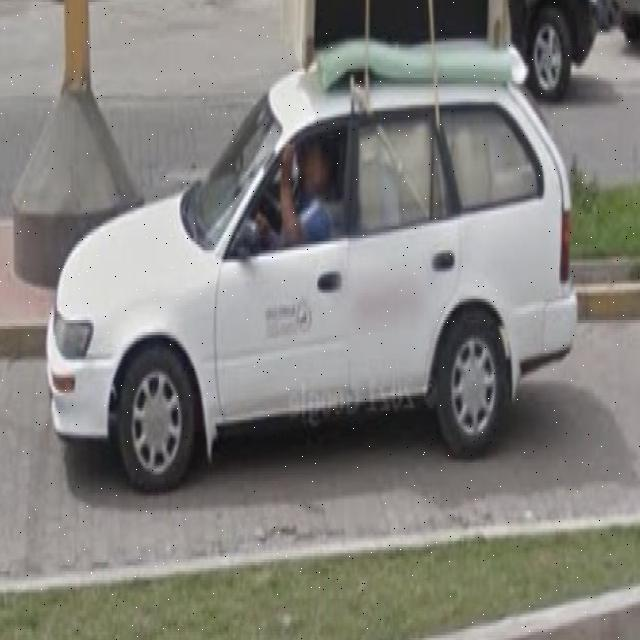car: (43, 49, 576, 485)
